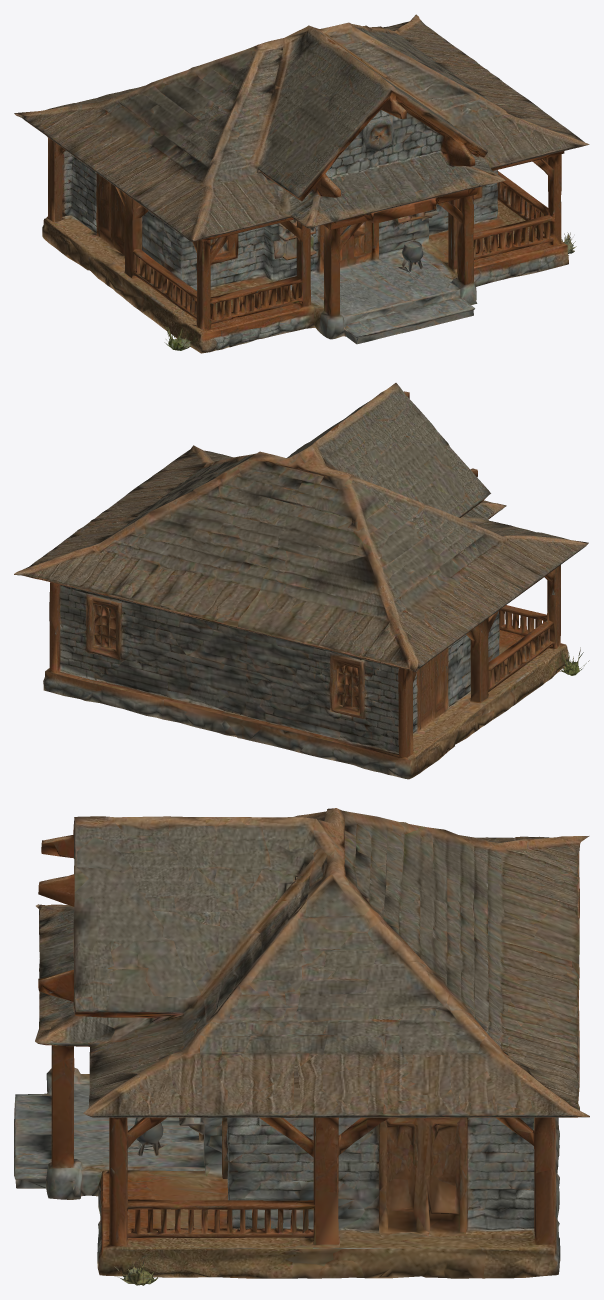
Rendered from links_clubhouse.94681371.glb.
3 renders of one model, top to bottom at view 1: azimuth 30°, elevation 25°; view 2: azimuth 150°, elevation 25°; view 3: azimuth 270°, elevation 25°, orthographic. The views are drawn at different scales.
Bounding box in the file's own units: 1.89 × 0.9959 × 1.58.
1 material, 1 textured.
